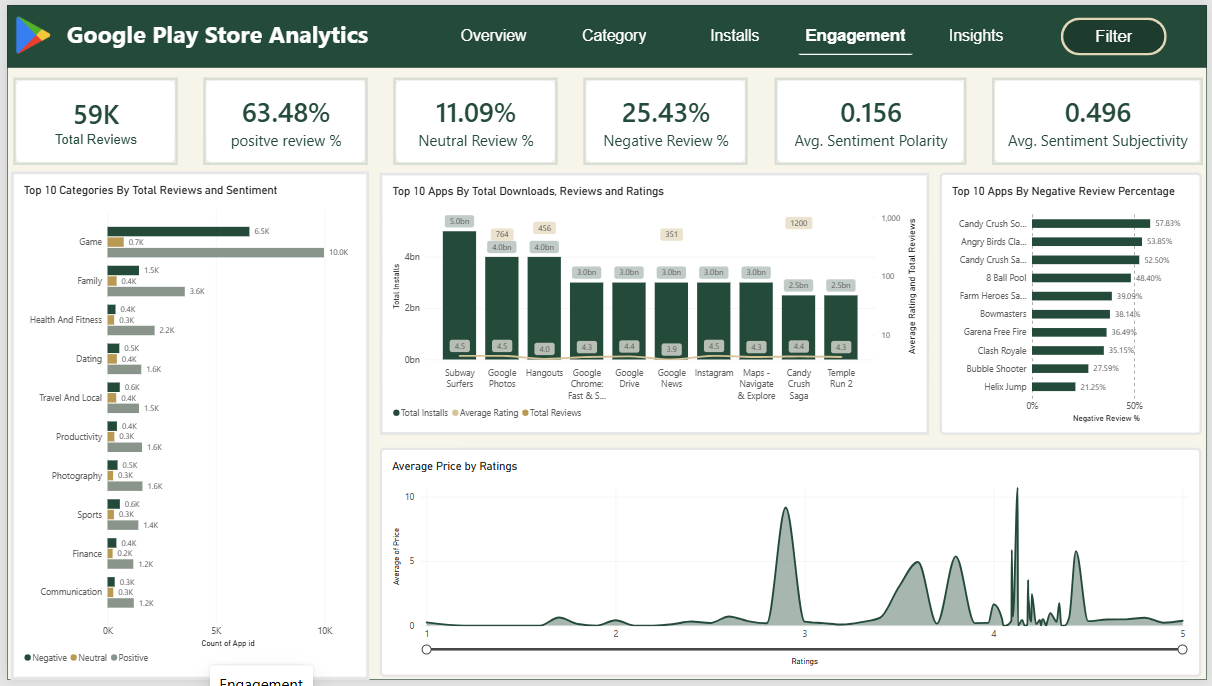

What the dashboard file says about the page in this screenshot:
{"tool":"powerbi","page":{"name":"Engagement","canvas":[1920,1080],"ordinal":3},"visuals":[{"type":"shape","box":[0,0,1920,1080],"z":0},{"type":"shape","box":[0,0,1920,100],"z":0,"group":"g1"},{"type":"pageNavigator","box":[686,20,960,60],"z":500,"group":"g1"},{"type":"actionButton","box":[1685,20,169.6,60.7],"z":750,"group":"g1"},{"type":"group","id":"g1","title":"Group 1","box":[0,0,1920,100],"z":1000},{"type":"textbox","box":[95,20,525,60],"z":1000,"group":"g1"},{"type":"image","box":[10.8,8.7,62.8,80.1],"z":1500,"group":"g1"},{"type":"clusteredBarChart","title":"Top 10 Categories By Total Reviews  and Sentiment","fields":{"Category":["Apps.Category"],"Series":["Reviews.Sentiment"],"Y":["CountNonNull(Reviews.Apps.App_id)"]},"box":[6.7,266.7,573.3,813.3],"z":3000},{"type":"cardVisual","fields":{"Data":["measure_table.Total Reviews"]},"box":[10,115,263,140],"z":4000},{"type":"cardVisual","fields":{"Data":["measure_table.positve review %"]},"box":[314.3,115,263,140],"z":5000},{"type":"cardVisual","fields":{"Data":["measure_table.Negative Review %"]},"box":[922.9,115,263,140],"z":6000},{"type":"cardVisual","fields":{"Data":["measure_table.Neutral Review %"]},"box":[618.6,115,263,140],"z":7000},{"type":"cardVisual","fields":{"Data":["measure_table.Average Sentiment Polarity"]},"box":[1227.2,115,307.5,140],"z":8000},{"type":"cardVisual","fields":{"Data":["measure_table.Average Sentiment Subjectivity"]},"box":[1576,115,337.5,140],"z":9000},{"type":"lineClusteredColumnComboChart","title":"Top 10 Apps By Total Downloads, Reviews and Ratings","fields":{"Category":["Apps.App"],"Y":["Sum(Apps.Installs)"],"Y2":["Avg(Apps.Final_ratings)","CountNonNull(Reviews.App)"]},"box":[595,267.5,880,420],"z":11000},{"type":"stackedAreaChart","title":"Average Price by Ratings","fields":{"Category":["Apps.Final_ratings"],"Y":["Avg(Apps.Price)"]},"box":[595,707.5,1315,367.5],"z":12000},{"type":"clusteredBarChart","title":"Top 10 Apps By Negative Review Percentage","fields":{"Category":["Apps.App"],"Y":["measure_table.Negative Review %"]},"box":[1492,268,420,420],"z":13000}]}

Visuals, with their boxes on the page's 1920x1080 design canvas (x1, y1, x2, y2). These are canvas units, not pixel positions in the 1212x686 screenshot, which may show the page scaled, cropped or inside an application window:
shape: [x1=0, y1=0, x2=1920, y2=1080]
shape: [x1=0, y1=0, x2=1920, y2=100]
pageNavigator: [x1=686, y1=20, x2=1646, y2=80]
actionButton: [x1=1685, y1=20, x2=1855, y2=81]
"Group 1" group: [x1=0, y1=0, x2=1920, y2=100]
textbox: [x1=95, y1=20, x2=620, y2=80]
image: [x1=11, y1=9, x2=74, y2=89]
"Top 10 Categories By Total Reviews  and Sentiment" clusteredBarChart: [x1=7, y1=267, x2=580, y2=1080]
cardVisual - measure_table.Total Reviews: [x1=10, y1=115, x2=273, y2=255]
cardVisual - measure_table.positve review %: [x1=314, y1=115, x2=577, y2=255]
cardVisual - measure_table.Negative Review %: [x1=923, y1=115, x2=1186, y2=255]
cardVisual - measure_table.Neutral Review %: [x1=619, y1=115, x2=882, y2=255]
cardVisual - measure_table.Average Sentiment Polarity: [x1=1227, y1=115, x2=1535, y2=255]
cardVisual - measure_table.Average Sentiment Subjectivity: [x1=1576, y1=115, x2=1914, y2=255]
"Top 10 Apps By Total Downloads, Reviews and Ratings" lineClusteredColumnComboChart: [x1=595, y1=268, x2=1475, y2=688]
"Average Price by Ratings" stackedAreaChart: [x1=595, y1=708, x2=1910, y2=1075]
"Top 10 Apps By Negative Review Percentage" clusteredBarChart: [x1=1492, y1=268, x2=1912, y2=688]
